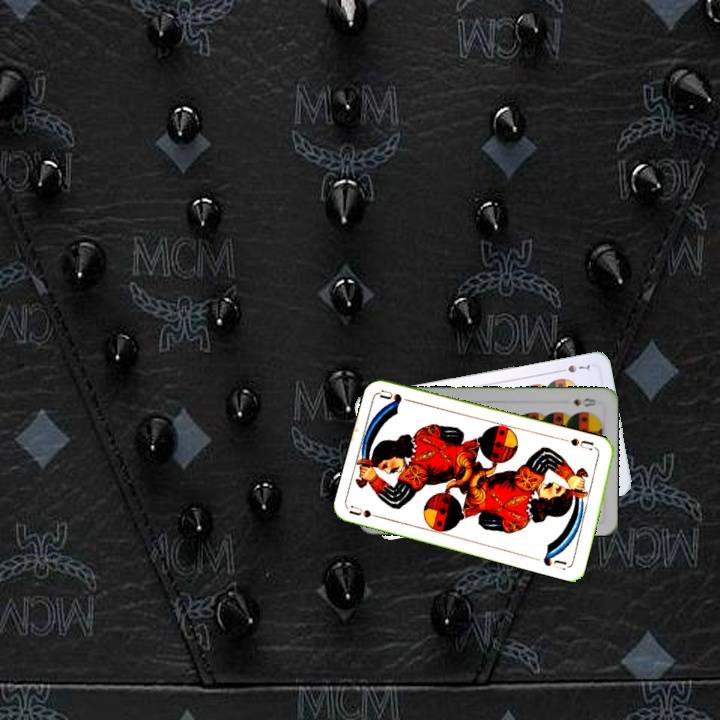S7: (554, 360, 593, 375)
S8: (570, 394, 599, 409)
SU: (346, 501, 387, 522), (566, 434, 596, 453)
